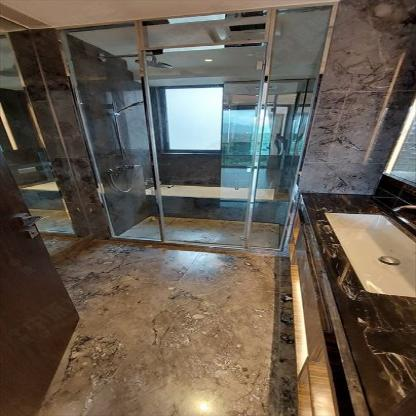Bathtub: (146, 183, 289, 224)
Faucet: (390, 201, 415, 215)
Toilet Sink: (322, 211, 415, 296)
Water Cubicle: (56, 0, 336, 250)
